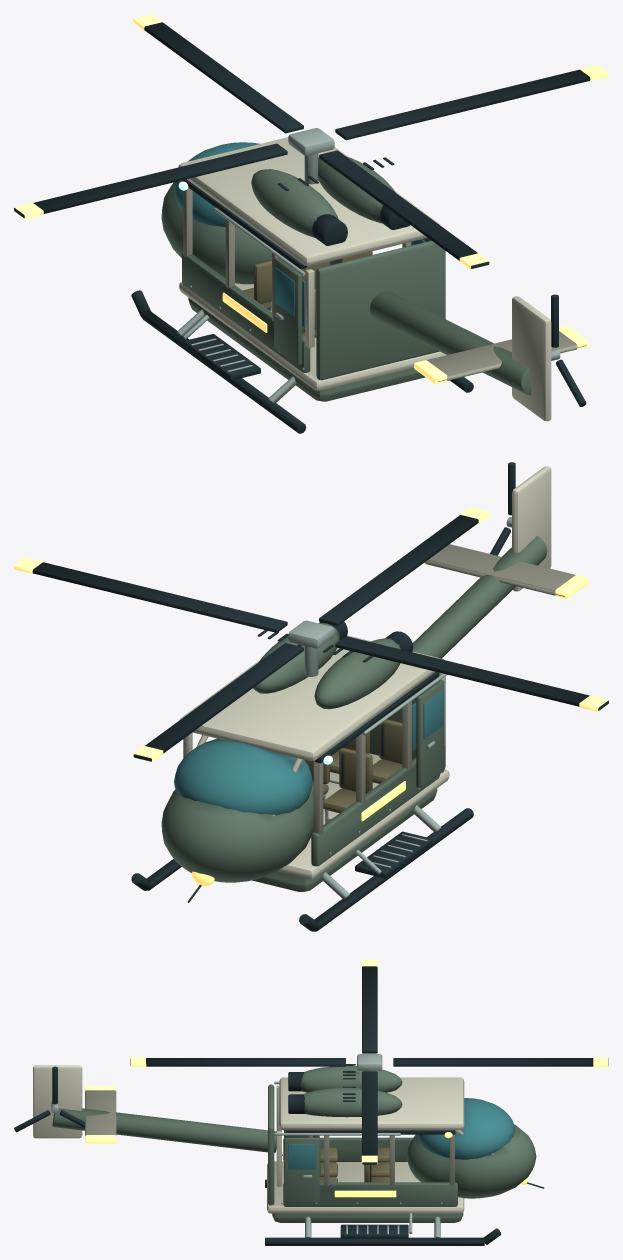
Rendered from kf-rescue-helicopter.glb.
The picture shows the model from 3 angles, top to bottom: view 1: azimuth 30°, elevation 25°; view 2: azimuth 150°, elevation 25°; view 3: azimuth 270°, elevation 25°; orthographic projection. The views are drawn at different scales.
Parts seen in each view (by area): view 1: RescueHelicopter Rescue sage, RescueHelicopter Rescue ivory, MainRotor Rotor carbon, RescueHelicopter Rotor carbon, RescueHelicopter Cockpit glazing, RescueHelicopter Aircraft fittings, RescueHelicopter Seat canvas, RescueHelicopter Rescue gold, MainRotor Rescue gold, MainRotor Aircraft fittings, TailRotor Rotor carbon; view 2: RescueHelicopter Rescue sage, RescueHelicopter Rescue ivory, MainRotor Rotor carbon, RescueHelicopter Cockpit glazing, RescueHelicopter Rotor carbon, RescueHelicopter Seat canvas, RescueHelicopter Aircraft fittings, RescueHelicopter Rescue gold, MainRotor Rescue gold, MainRotor Aircraft fittings; view 3: RescueHelicopter Rescue sage, RescueHelicopter Rescue ivory, MainRotor Rotor carbon, RescueHelicopter Rotor carbon, RescueHelicopter Cockpit glazing, RescueHelicopter Seat canvas, RescueHelicopter Aircraft fittings, RescueHelicopter Rescue gold, TailRotor Rotor carbon, MainRotor Rescue gold, MainRotor Aircraft fittings.
Part boxes in pixels (x1,y1,x2,y2): RescueHelicopter Rescue sage: [161, 156, 531, 401]; RescueHelicopter Rescue ivory: [175, 137, 586, 421]; MainRotor Rotor carbon: [14, 22, 590, 268]; RescueHelicopter Rotor carbon: [131, 157, 473, 433]; RescueHelicopter Cockpit glazing: [174, 142, 425, 327]; RescueHelicopter Aircraft fittings: [177, 153, 560, 402]; RescueHelicopter Seat canvas: [242, 251, 372, 337]; RescueHelicopter Rescue gold: [222, 292, 588, 383]; MainRotor Rescue gold: [14, 14, 608, 269]; MainRotor Aircraft fittings: [288, 128, 334, 155]; TailRotor Rotor carbon: [551, 294, 586, 406]; RescueHelicopter Rescue sage: [161, 536, 547, 891]; RescueHelicopter Rescue ivory: [175, 466, 575, 878]; MainRotor Rotor carbon: [32, 515, 608, 761]; RescueHelicopter Cockpit glazing: [174, 690, 443, 815]; RescueHelicopter Rotor carbon: [131, 621, 473, 931]; RescueHelicopter Seat canvas: [305, 719, 412, 812]; RescueHelicopter Aircraft fittings: [304, 517, 511, 898]; RescueHelicopter Rescue gold: [191, 562, 588, 886]; MainRotor Rescue gold: [14, 507, 608, 761]; MainRotor Aircraft fittings: [288, 620, 334, 648]; RescueHelicopter Rescue sage: [52, 1065, 536, 1222]; RescueHelicopter Rescue ivory: [33, 1065, 493, 1213]; MainRotor Rotor carbon: [130, 966, 608, 1164]; RescueHelicopter Rotor carbon: [265, 1064, 544, 1245]; RescueHelicopter Cockpit glazing: [288, 1098, 514, 1174]; RescueHelicopter Seat canvas: [307, 1135, 426, 1182]; RescueHelicopter Aircraft fittings: [51, 1070, 442, 1238]; RescueHelicopter Rescue gold: [85, 1086, 528, 1197]; TailRotor Rotor carbon: [14, 1066, 84, 1132]; MainRotor Rescue gold: [130, 960, 608, 1164]; MainRotor Aircraft fittings: [357, 1054, 382, 1070].
Bounding box in the file's own units: 11.65 × 4.25 × 14.49.
